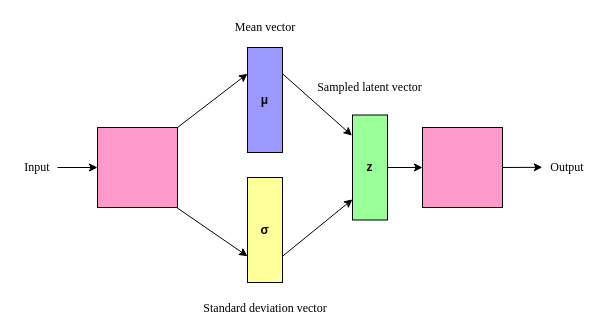
The diagram is 604 pixels wide and 335 high, and some of its shapes have lost their labels. Each missing label, with the centre of its shape:
Decoder Network (deconv): [462,167]
Encoder Network (conv): [137,167]
